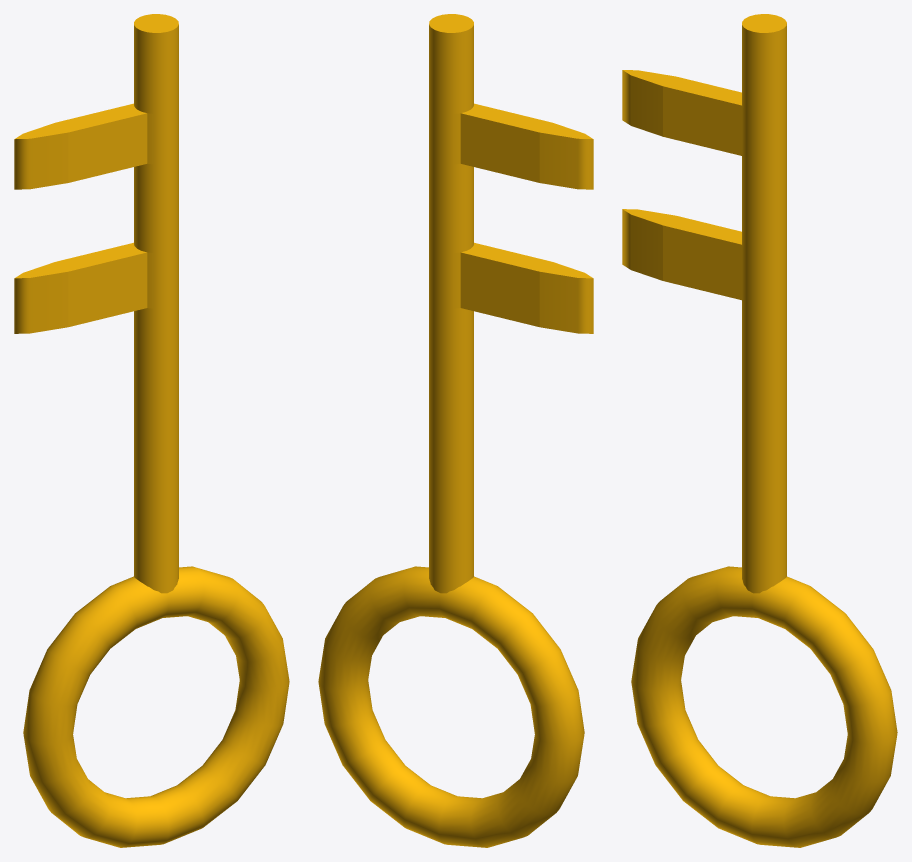
The model's file is key.fbx.
3 renders of one model, left to right at view 1: azimuth 30°, elevation 25°; view 2: azimuth 150°, elevation 25°; view 3: azimuth 330°, elevation 25°, orthographic.
Parts seen in each view (by area): view 1: pCylinder25; view 2: pCylinder25; view 3: pCylinder25.
Boxes of the visible parts, x1,y1,x2,y2 form: pCylinder25: (14,14,289,847); pCylinder25: (318,14,593,847); pCylinder25: (622,14,897,847).
Size of the model in its own units: 0.2512 by 0.7234 by 0.04.
